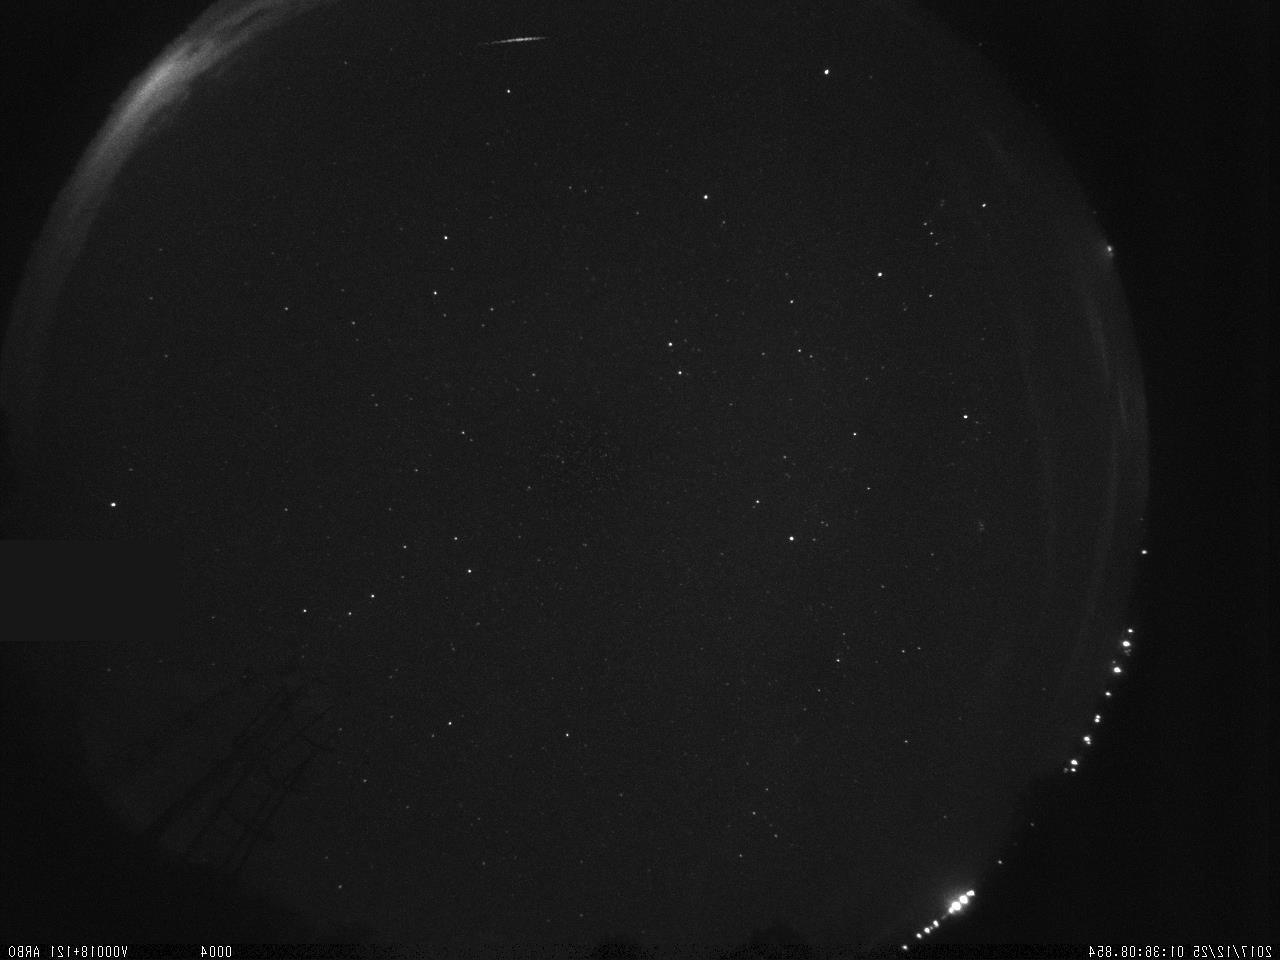meteor: (477, 26, 556, 61)
